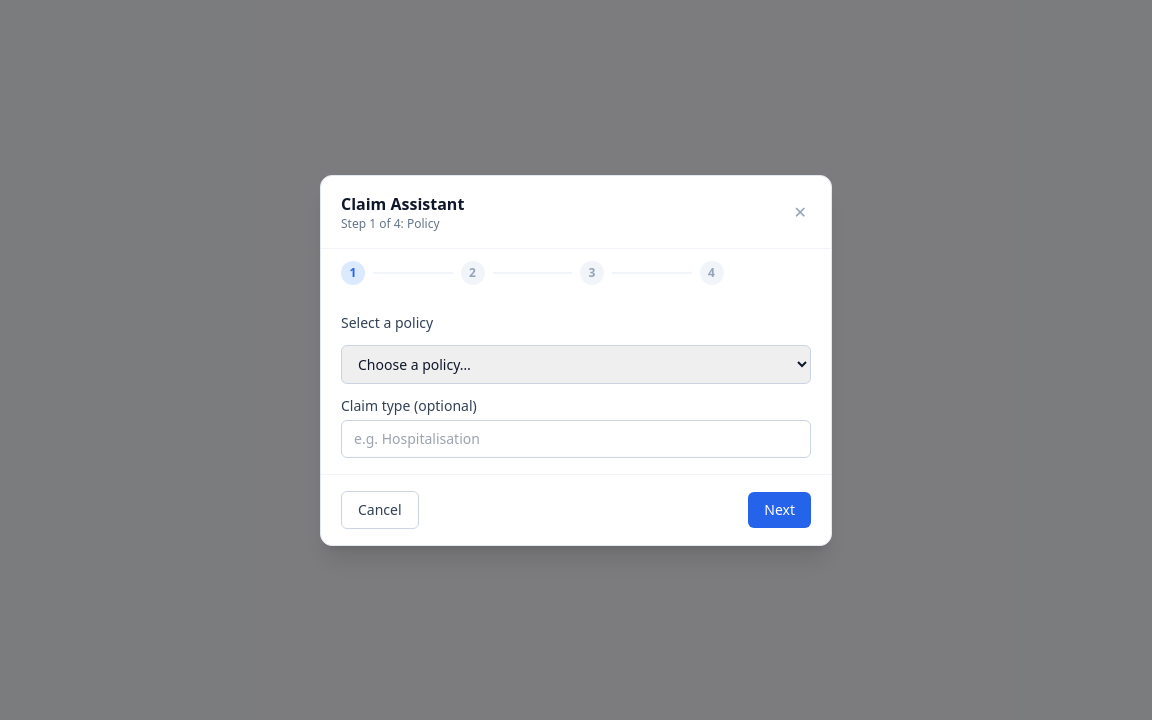
Test: ClaimAssistant › prevents advancing past the policy step without a selection (R12.5)
Click the button "Next" at (780, 510), box [748,492,811,528]
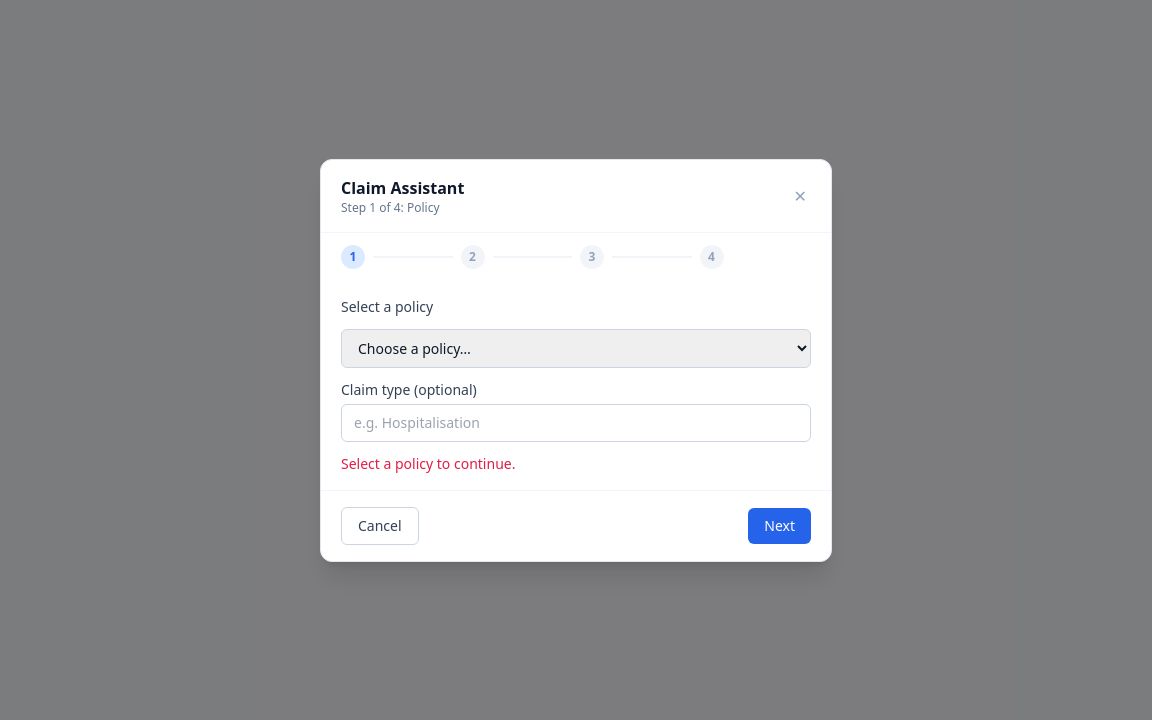
Expected: the text "Step 1 of 4: Policy" is shown, [341,198,440,216]
Now the message shows "Select a policy", box [341,454,515,472]
